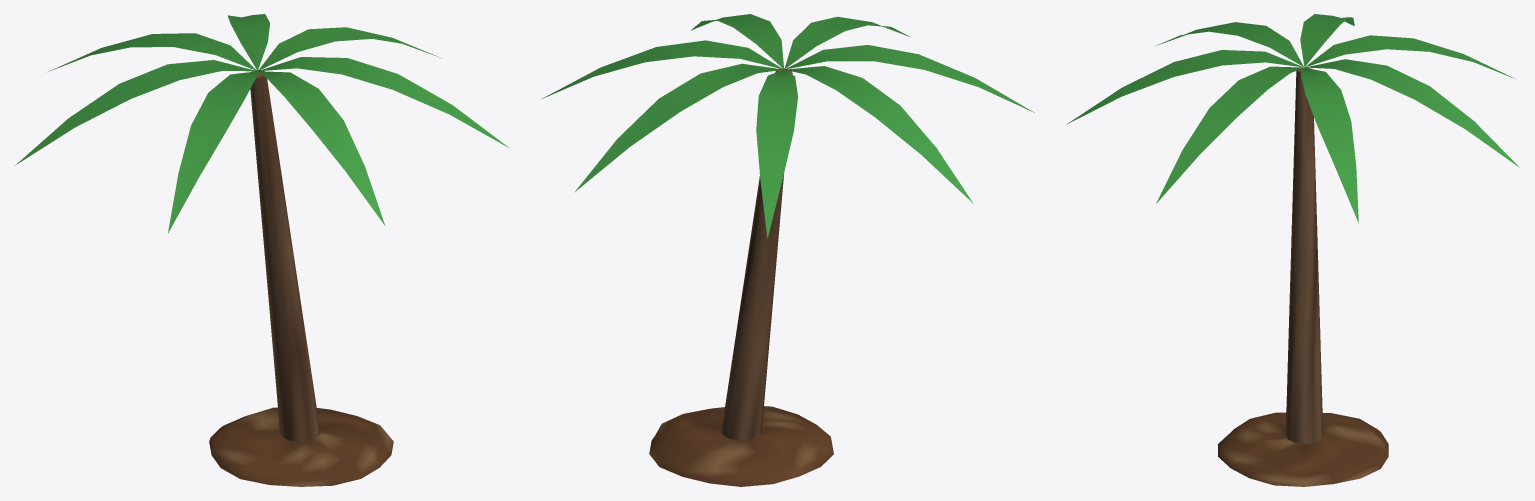
Rendered from plant-coconut-4.gltf.
3 renders of one model, left to right at view 1: azimuth 30°, elevation 25°; view 2: azimuth 150°, elevation 25°; view 3: azimuth 270°, elevation 25°, orthographic. The views are drawn at different scales.
Size of the model in its own units: 3.45 by 3.05 by 3.37.
